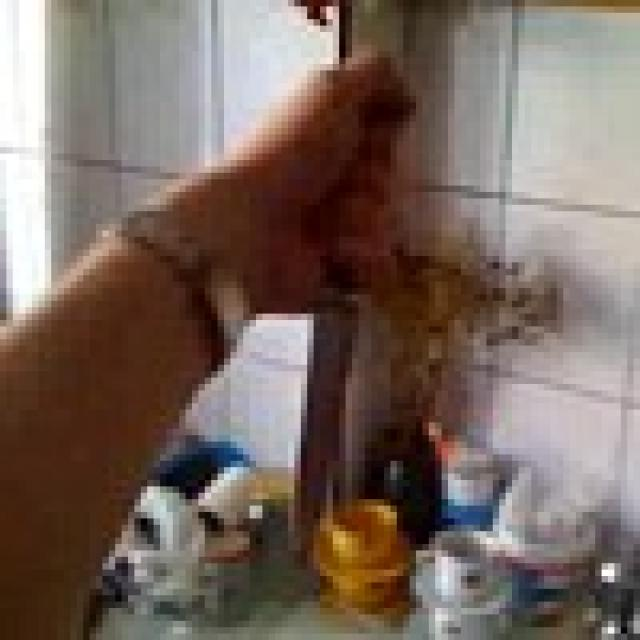Knife: (288, 77, 403, 544)
